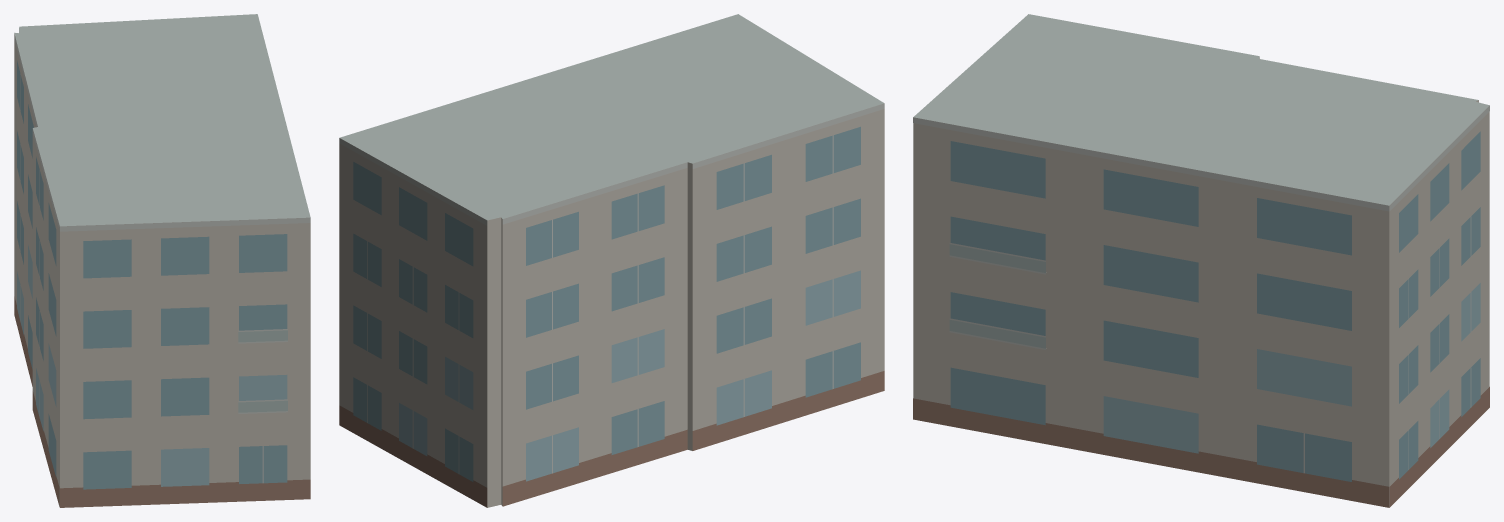
The model's file is survey-upis-32680254.glb.
The picture shows the model from 3 angles, left to right: view 1: azimuth 30°, elevation 25°; view 2: azimuth 150°, elevation 25°; view 3: azimuth 270°, elevation 25°; orthographic projection. The views are drawn at different scales.
Parts seen in each view (by area): view 1: survey-upis-32680254.tmp; view 2: survey-upis-32680254.tmp; view 3: survey-upis-32680254.tmp.
Boxes of the visible parts, x1,y1,x2,y2 form: survey-upis-32680254.tmp: [14, 14, 310, 507]; survey-upis-32680254.tmp: [339, 14, 884, 507]; survey-upis-32680254.tmp: [913, 14, 1489, 507].
Bounding box in the file's own units: 17.29 × 12.7 × 21.97.
